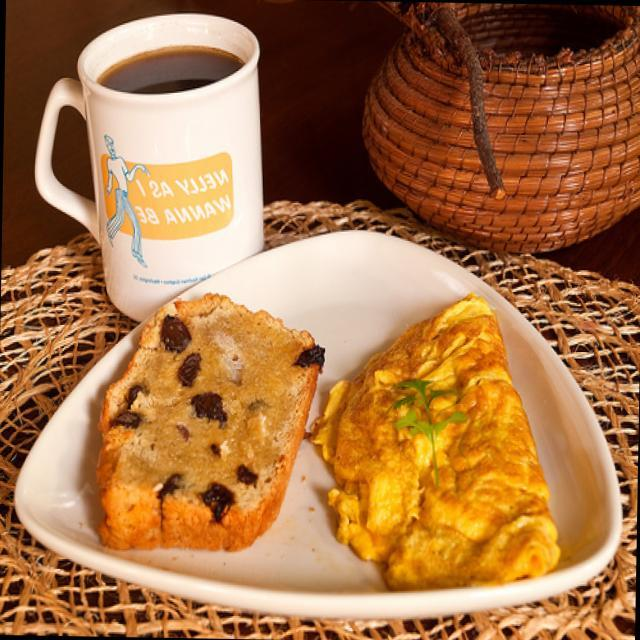Omelet: (318, 285, 562, 595)
